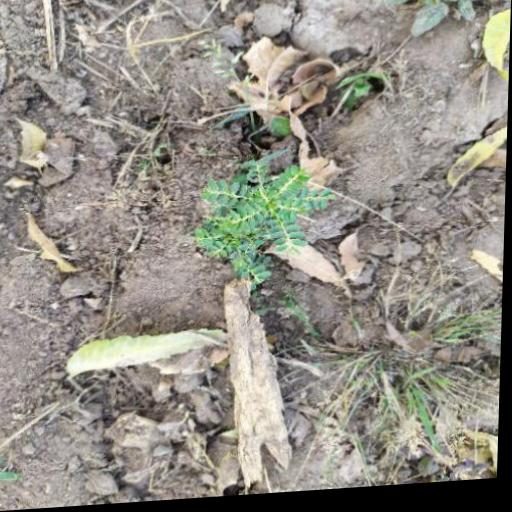weed: (302, 274, 492, 469), (186, 161, 334, 288)
